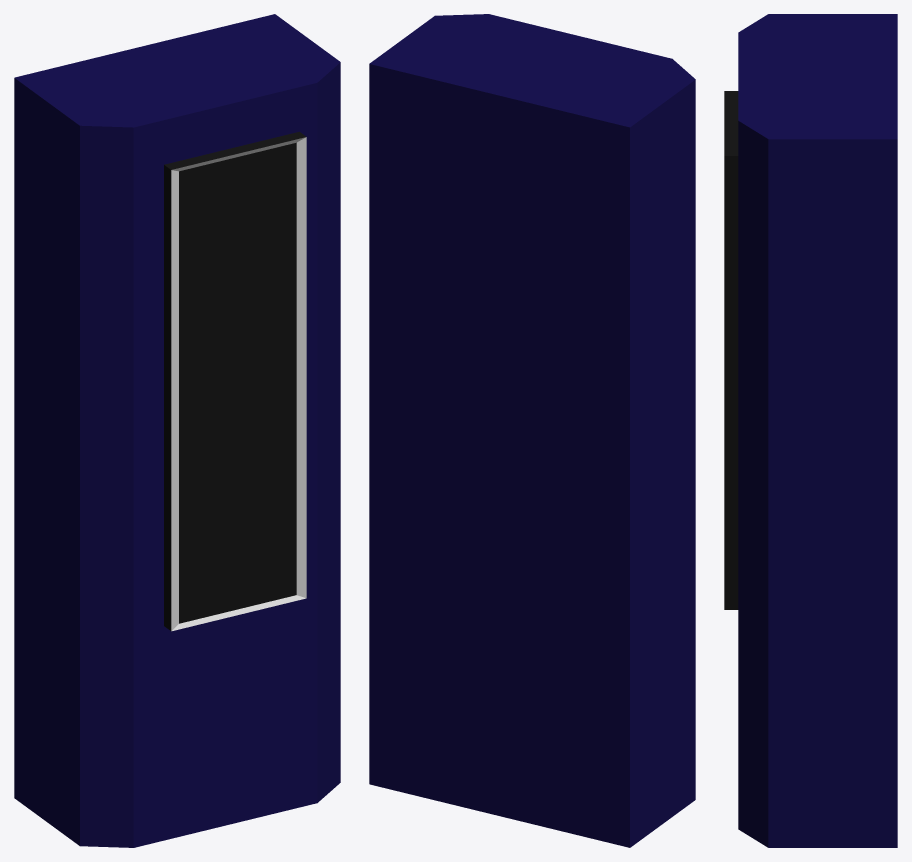
File: Buliding1.fbx
3 views of the same model, side by side, from view 1: azimuth 30°, elevation 25°; view 2: azimuth 150°, elevation 25°; view 3: azimuth 270°, elevation 25° (orthographic).
Parts seen in each view (by area): view 1: Cube.011, Cube.019; view 2: Cube.011; view 3: Cube.011, Cube.019.
Boxes of the visible parts, bbox=[...] form: Cube.011: bbox=[14, 14, 340, 847]; Cube.019: bbox=[164, 131, 306, 631]; Cube.011: bbox=[369, 14, 695, 847]; Cube.011: bbox=[738, 14, 897, 847]; Cube.019: bbox=[724, 91, 738, 609].
Bounding box in the file's own units: 4368 × 11526 × 2558.
